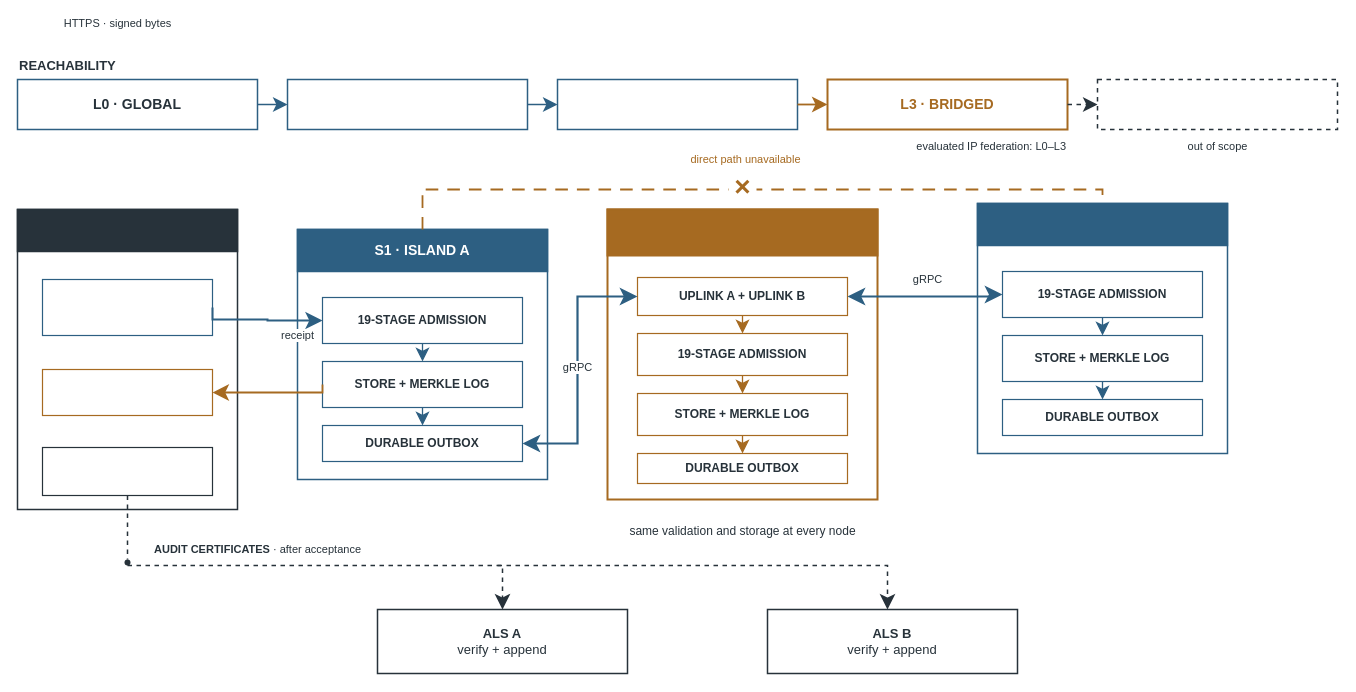
The diagram is 1356 pixels wide and 692 high, and some of its shapes have lost their labels. The centre of each missing label's shape, as x and y in pixels:
"AUDIT CERTIFICATE received by client" goes at point (127, 471).
"CLIENT C1" goes at point (127, 230).
"L1 · NATIONAL" goes at point (407, 104).
"L2 · ISP ISLAND" goes at point (677, 104).
"L4 · ISOLATED" goes at point (1217, 104).
"S2 · ISLAND B" goes at point (1102, 224).
"S3 · DUAL-HOMED BRIDGE" goes at point (742, 232).
"SIGN ON DEVICE canonical bytes" goes at point (127, 307).
"SIGNED RECEIPT" goes at point (127, 392).
